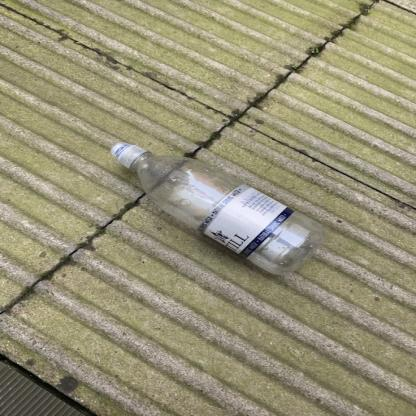trash: (104, 140, 334, 280)
